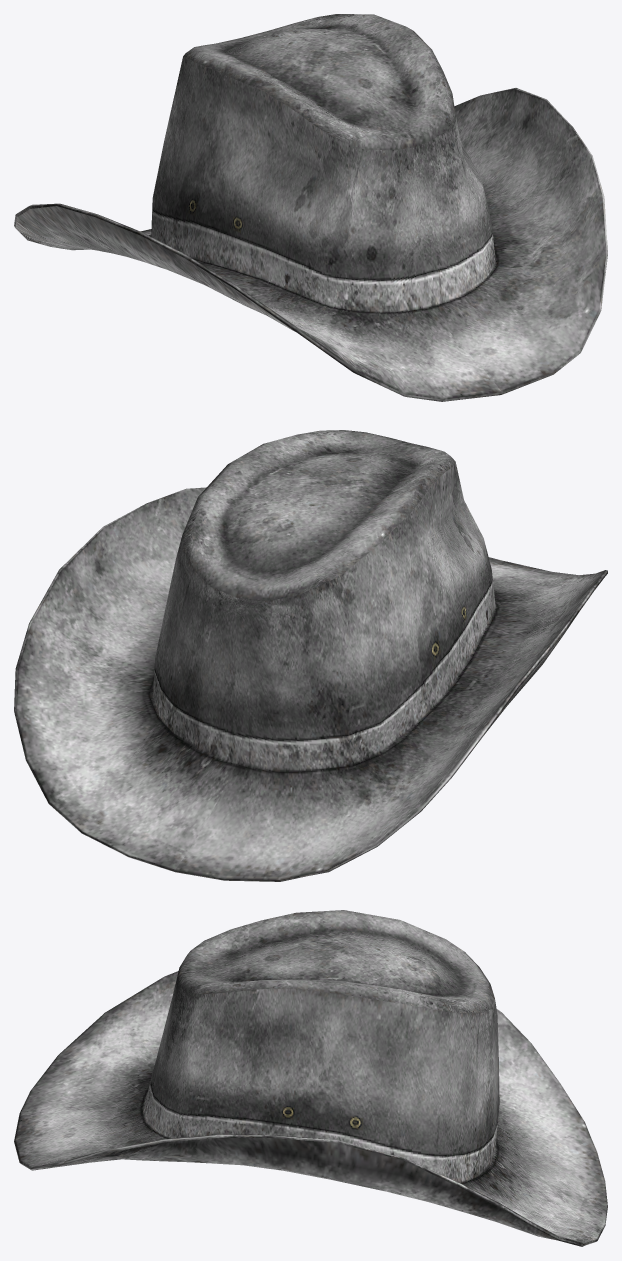
The model's file is SurvivorMale_Head_Hat_Cowboy_LOD0.glb.
The picture shows the model from 3 angles, top to bottom: view 1: azimuth 30°, elevation 25°; view 2: azimuth 150°, elevation 25°; view 3: azimuth 270°, elevation 25°; orthographic projection. The views are drawn at different scales.
Parts seen in each view (by area): view 1: Hoodie; view 2: Hoodie; view 3: Hoodie.
Boxes of the visible parts, <box> form: Hoodie: <box>14,14,607,401</box>; Hoodie: <box>14,430,607,881</box>; Hoodie: <box>14,910,607,1246</box>.
Size of the model in its own units: 0.3099 by 0.1839 by 0.3808.
Materials: 1 (1 with a texture image).
